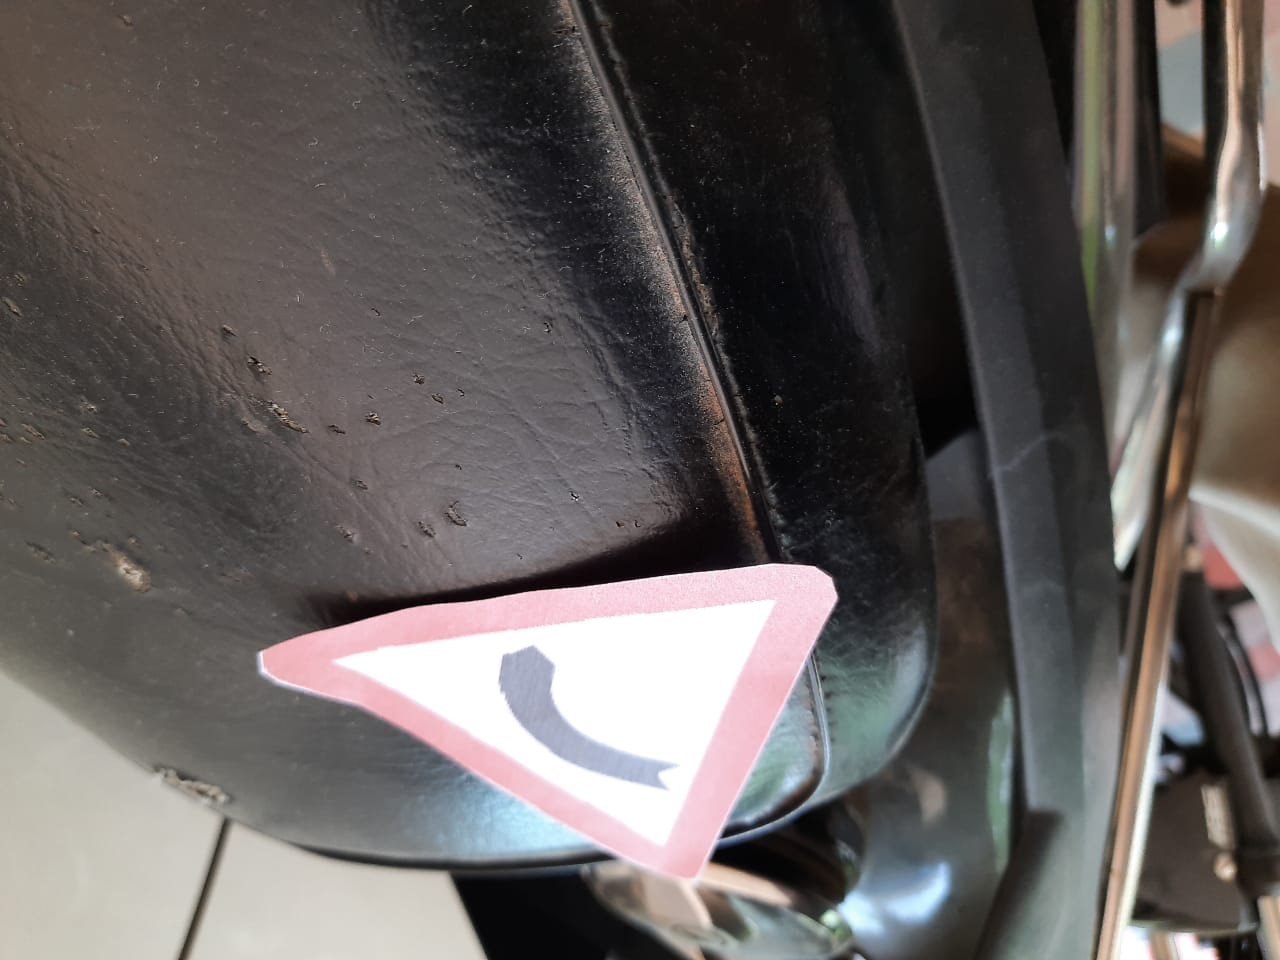RIGHT CURVE: (247, 515, 866, 898)
